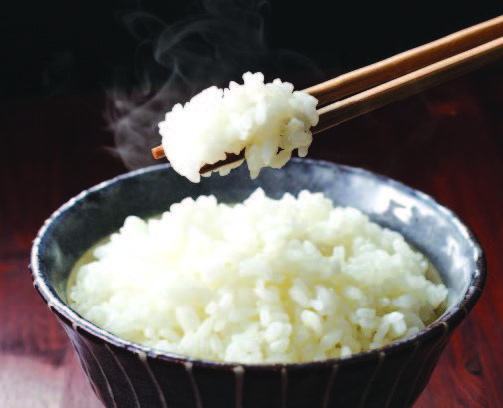ssalbab: (68, 190, 452, 364), (155, 67, 322, 185)
